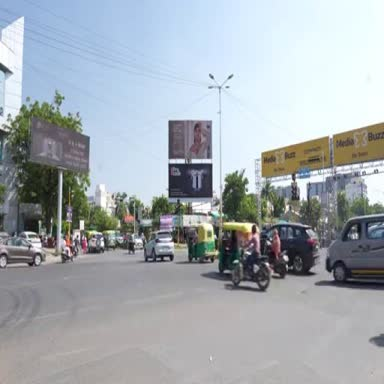Car: (326, 214, 383, 282), (261, 222, 320, 274), (0, 237, 44, 268), (144, 231, 173, 261), (88, 232, 105, 253), (20, 232, 41, 248), (135, 234, 143, 249), (0, 232, 10, 241)
